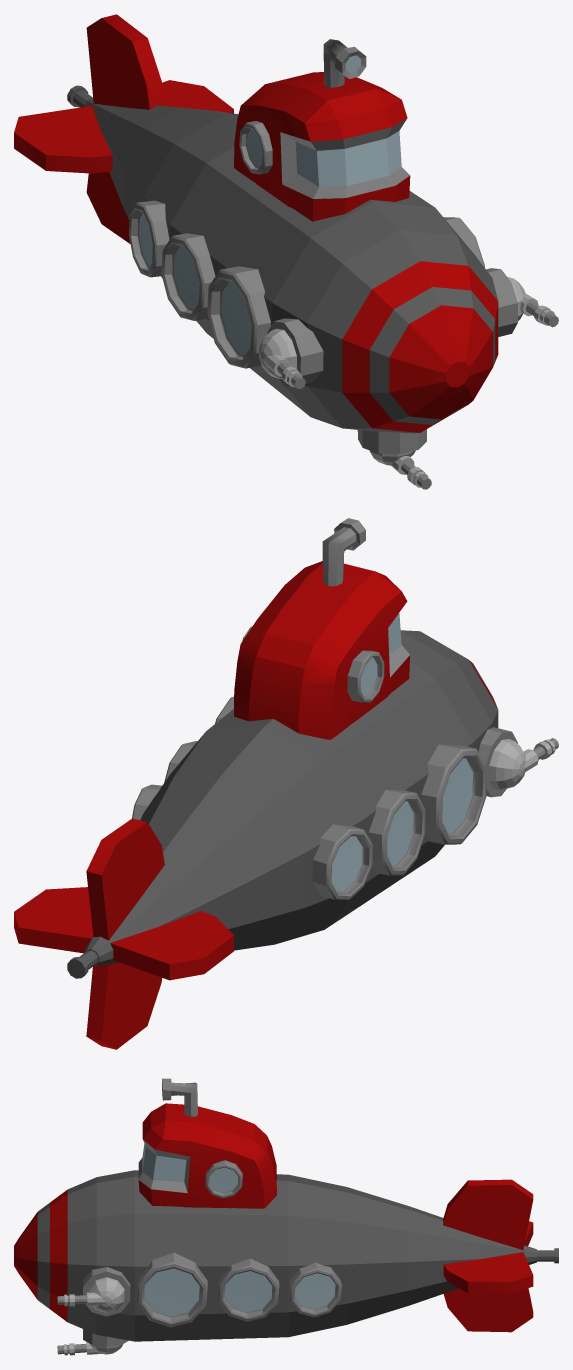
The model's file is boss 3.fbx.
The picture shows the model from 3 angles, top to bottom: view 1: azimuth 30°, elevation 25°; view 2: azimuth 150°, elevation 25°; view 3: azimuth 270°, elevation 25°; orthographic projection. The views are drawn at different scales.
Parts seen in each view (by area): view 1: polySurface176; view 2: polySurface176; view 3: polySurface176.
Part boxes in pixels (<box>): polySurface176: <box>14,14,558,489</box>; polySurface176: <box>14,518,558,1049</box>; polySurface176: <box>14,1078,558,1355</box>.
Bounding box in the file's own units: 4.39 × 6.05 × 10.85.
